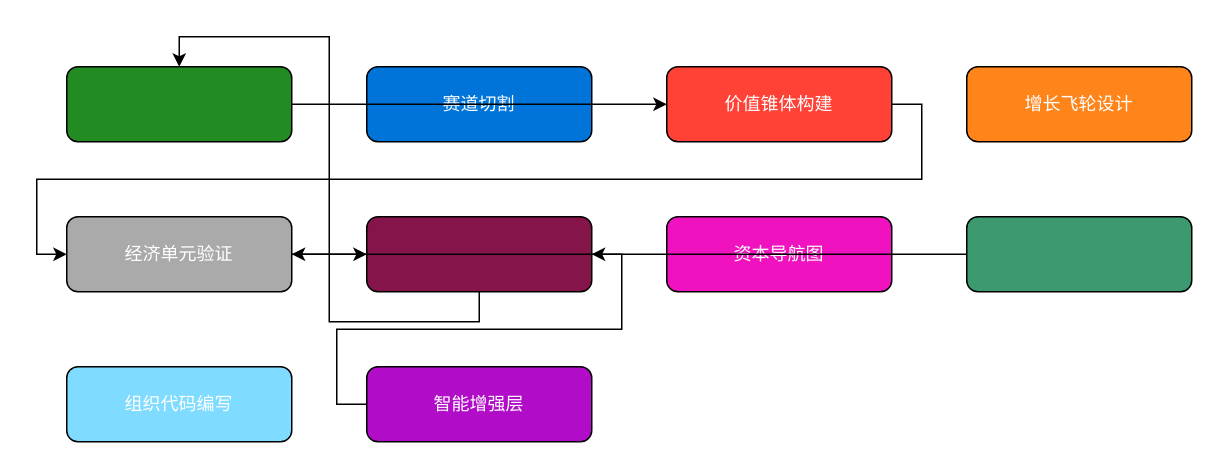
Some shapes in this 1218 by 468 pixel diagram are drawn without their labels. Here are the shapes that lost their labels. From the top down, the box of each, then its label:
(65, 65, 292, 142): 北极星指标定义
(365, 215, 592, 292): MVP熔断测试
(965, 215, 1192, 292): 抗脆弱架构
